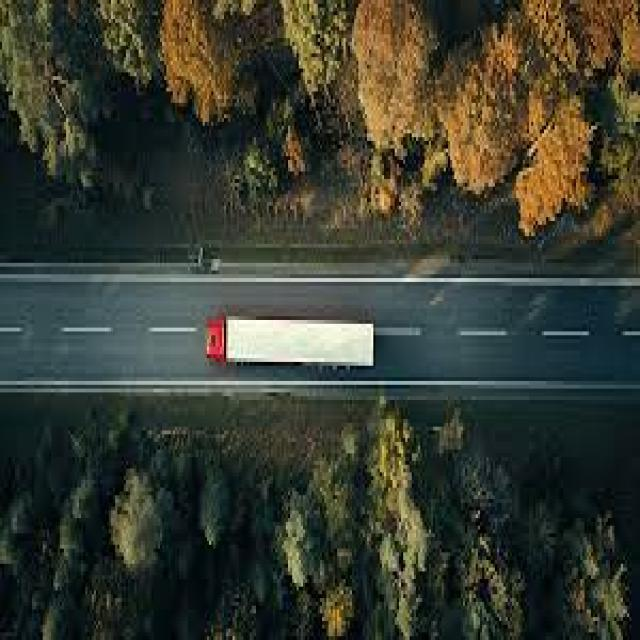truck: (206, 314, 375, 370)
